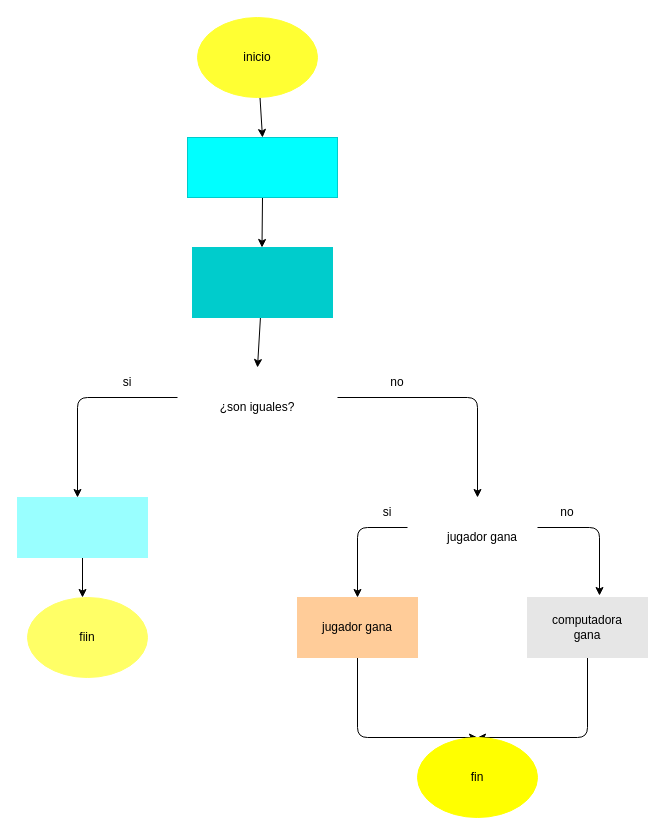
This 665x835 diagram has some shape labels left out. The centre of each missing label's shape, as x and y in pixels:
empate: (82,527)
jugador elije opcion ("piedra"papel"tijera"): (262,167)
la computadora escoje a lasar: (262,282)
